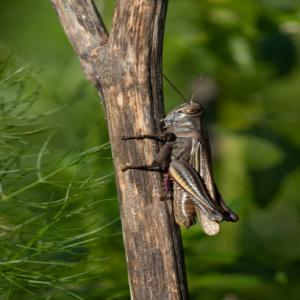locust: (137, 61, 247, 234)
